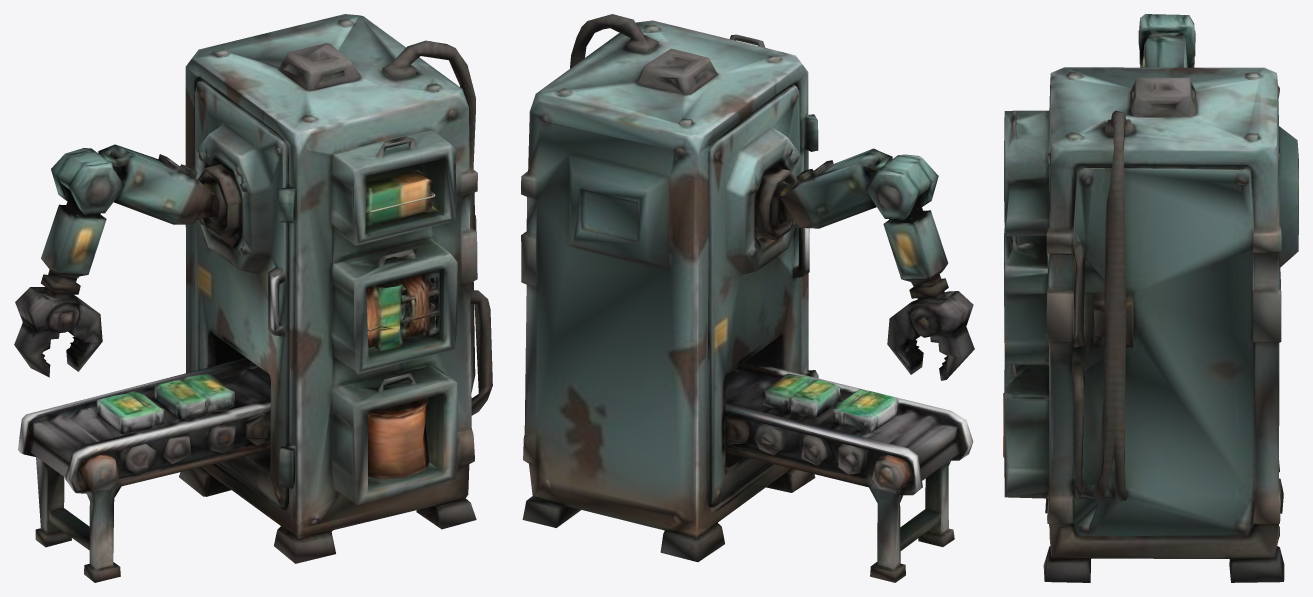
File: fenjieji-2.glb
3 renders of one model, left to right at view 1: azimuth 30°, elevation 25°; view 2: azimuth 150°, elevation 25°; view 3: azimuth 270°, elevation 25°, orthographic. The views are drawn at different scales.
Parts seen in each view (by area): view 1: node_0; view 2: node_0; view 3: node_0.
Part boxes in pixels (left/top/right/bottom): node_0: left=14, top=14, right=492, bottom=582; node_0: left=521, top=14, right=974, bottom=582; node_0: left=1003, top=14, right=1298, bottom=582.
Size of the model in its own units: 0.84 by 0.8566 by 0.4999.
1 material, 1 textured.
